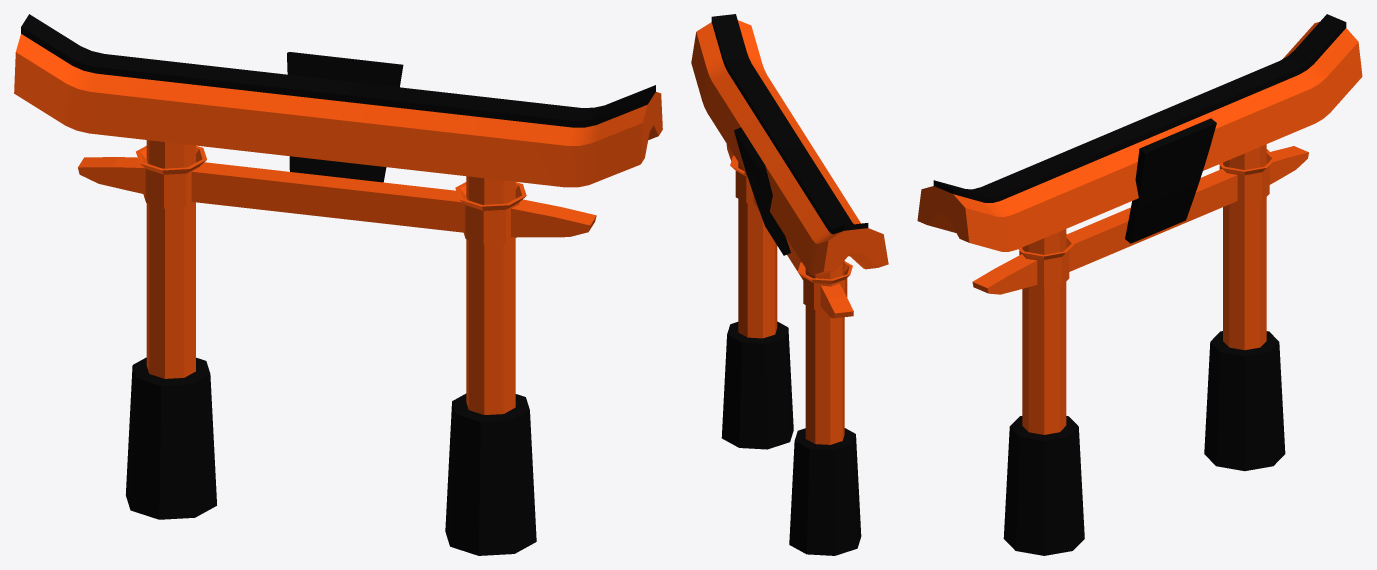
The model's file is Temple.fbx.
3 renders of one model, left to right at view 1: azimuth 30°, elevation 25°; view 2: azimuth 150°, elevation 25°; view 3: azimuth 270°, elevation 25°, orthographic. The views are drawn at different scales.
Visible parts, largest first — view 1: Cylinder.002; view 2: Cylinder.002; view 3: Cylinder.002.
Part boxes in pixels (x1,y1,x2,y2): Cylinder.002: (14, 14, 662, 555); Cylinder.002: (691, 14, 888, 555); Cylinder.002: (917, 14, 1362, 555).
Size of the model in its own units: 901 by 887 by 901.
